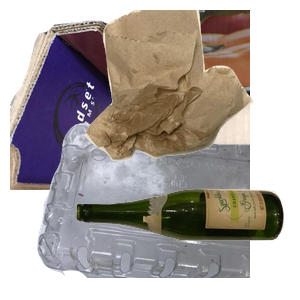cardboard: (10, 10, 250, 190)
glass: (74, 186, 300, 300)
plastic: (35, 120, 275, 300)
trash: (83, 10, 300, 163)
